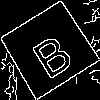B: (24, 24, 77, 81)
